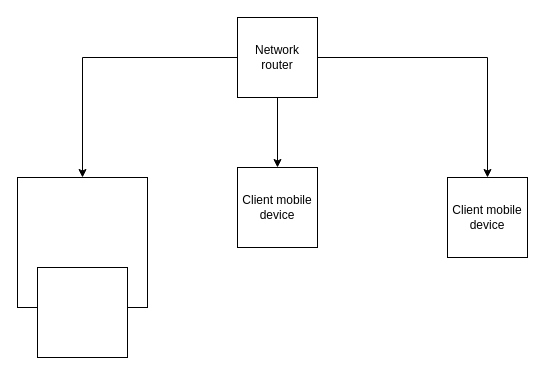
The diagram is 545 pixels wide and 375 high, and some of its shapes have lost their labels. Each missing label, with the box of its shape:
Host PC: (16, 176, 148, 308)
Next.js application running in an electronjs wrapper: (36, 266, 128, 358)
